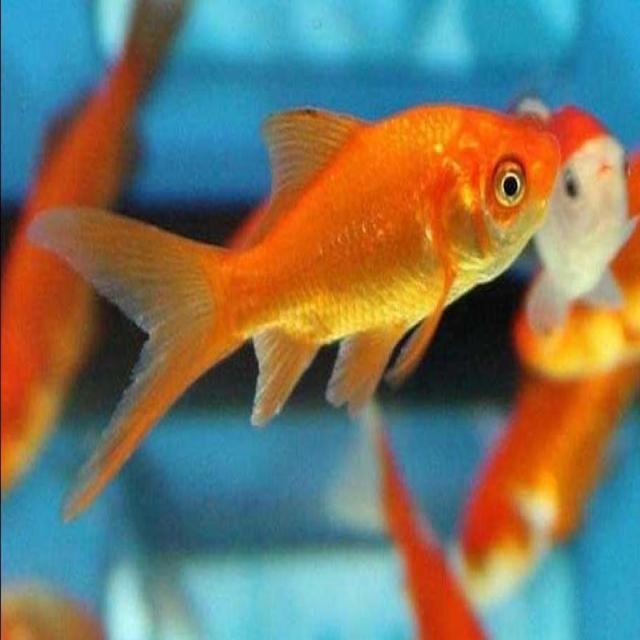GoldFish: (16, 96, 561, 529)
